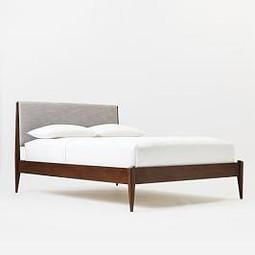bed: (11, 96, 253, 211)
